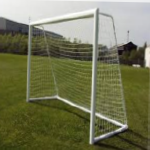goals: (26, 6, 130, 144)
